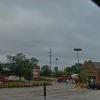Tree: (7, 38, 40, 89)
